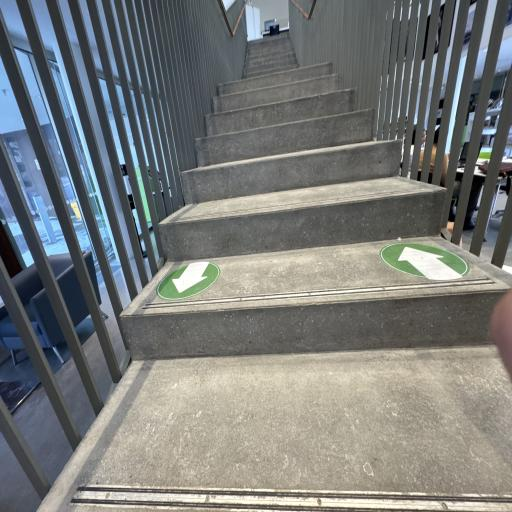Stairs: (40, 33, 512, 512), (123, 178, 510, 434), (159, 176, 446, 290), (181, 140, 401, 204)
